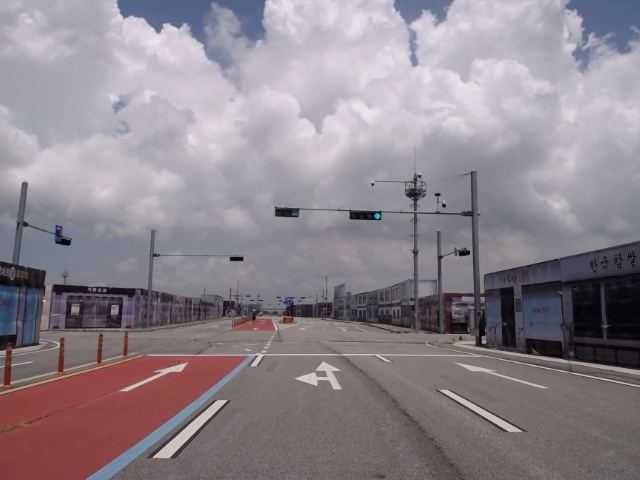straight_green_4: (349, 210, 381, 220)
